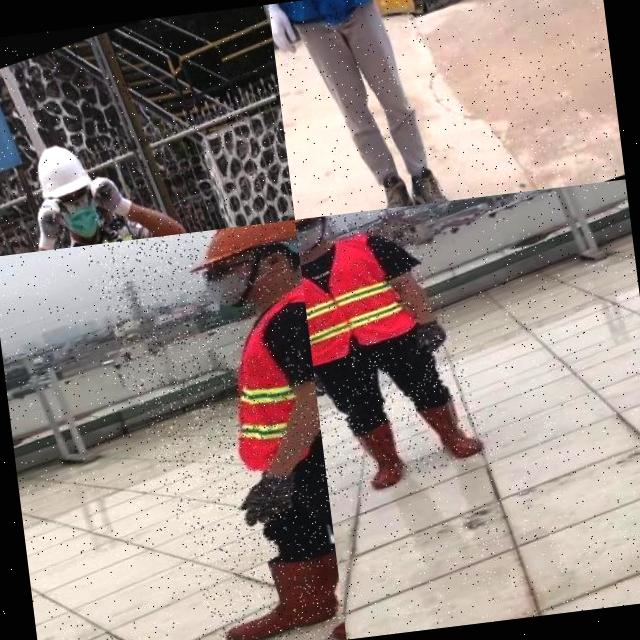boots: (205, 541, 346, 640), (413, 388, 491, 468), (350, 416, 418, 492), (406, 159, 460, 205), (368, 167, 420, 210)
helmet: (20, 129, 100, 216), (188, 220, 300, 274)
vest: (191, 274, 326, 486), (296, 224, 418, 372)
